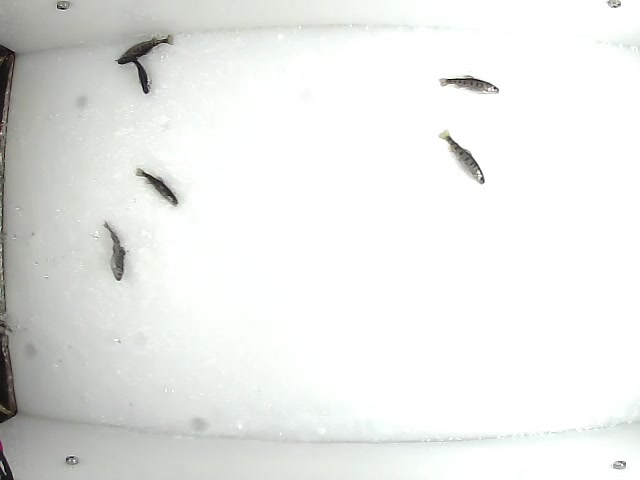fish: (437, 127, 487, 184), (111, 31, 174, 65), (135, 168, 183, 206), (101, 216, 127, 284), (438, 74, 504, 96), (132, 57, 154, 96)
